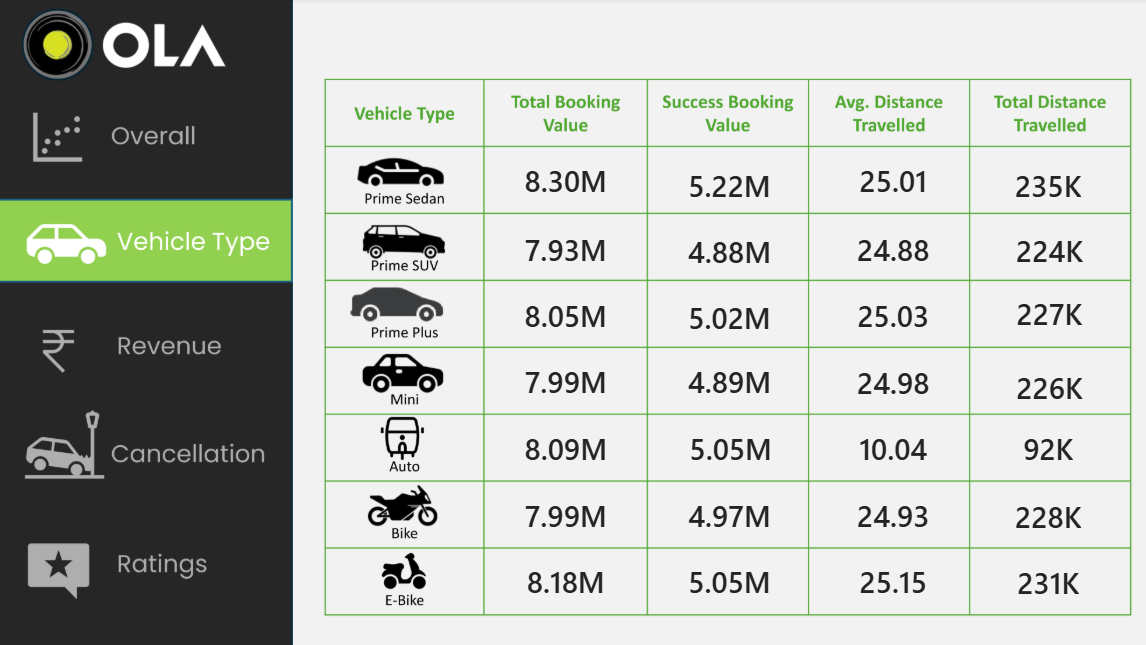

Layout of this report page (visuals, bound fields, positions):
{"tool":"powerbi","page":{"name":"Vehicle Type","canvas":[1280,720],"ordinal":1},"visuals":[{"type":"actionButton","box":[0,222,322.1,90.5],"z":0},{"type":"actionButton","box":[0,334.2,322.1,90.5],"z":1000},{"type":"actionButton","box":[0,448.8,322.1,90.5],"z":2000},{"type":"actionButton","box":[0,585.1,322.1,90.5],"z":3000},{"type":"actionButton","box":[0,113.4,322.1,90.5],"z":4000},{"type":"cardVisual","fields":{"Data":["Sum(July.Booking_Value)"]},"box":[533.8,159.2,179.8,78.2],"z":5000},{"type":"cardVisual","fields":{"Data":["Sum(July.Booking_Value)"]},"box":[533.8,234.6,179.8,78.2],"z":6000},{"type":"cardVisual","fields":{"Data":["Sum(July.Booking_Value)"]},"box":[533.8,312.9,179.8,67.2],"z":7000},{"type":"cardVisual","fields":{"Data":["Sum(July.Booking_Value)"]},"box":[533.8,380.1,179.8,78.2],"z":8000},{"type":"cardVisual","fields":{"Data":["Sum(July.Booking_Value)"]},"box":[533.8,458.3,179.8,70],"z":9000},{"type":"cardVisual","fields":{"Data":["Sum(July.Booking_Value)"]},"box":[533.8,528.3,179.8,75.5],"z":10000},{"type":"cardVisual","fields":{"Data":["Sum(July.Booking_Value)"]},"box":[533.8,603.8,179.8,71.4],"z":11000},{"type":"cardVisual","fields":{"Data":["Sum(July.Booking_Value)"]},"box":[713.6,164.7,179.8,78.2],"z":12000},{"type":"cardVisual","fields":{"Data":["Sum(July.Booking_Value)"]},"box":[713.6,237.4,179.8,78.2],"z":13000},{"type":"cardVisual","fields":{"Data":["Sum(July.Booking_Value)"]},"box":[713.6,315.6,179.8,67.2],"z":14000},{"type":"cardVisual","fields":{"Data":["Sum(July.Booking_Value)"]},"box":[713.6,380.1,179.8,78.2],"z":15000},{"type":"cardVisual","fields":{"Data":["Sum(July.Booking_Value)"]},"box":[714.9,458.3,179.8,70],"z":16000},{"type":"cardVisual","fields":{"Data":["Sum(July.Booking_Value)"]},"box":[713.6,528.3,179.8,75.5],"z":17000},{"type":"cardVisual","fields":{"Data":["Sum(July.Booking_Value)"]},"box":[713.6,603.8,179.8,71.4],"z":18000},{"type":"cardVisual","fields":{"Data":["Avg(July.Ride_Distance)"]},"box":[893.3,159.2,179.8,78.2],"z":19000},{"type":"cardVisual","fields":{"Data":["Avg(July.Ride_Distance)"]},"box":[893.3,234.6,179.8,78.2],"z":20000},{"type":"cardVisual","fields":{"Data":["Avg(July.Ride_Distance)"]},"box":[893.3,312.9,179.8,67.2],"z":21000},{"type":"cardVisual","fields":{"Data":["Avg(July.Ride_Distance)"]},"box":[893.3,381.5,179.8,78.2],"z":22000},{"type":"cardVisual","fields":{"Data":["Avg(July.Ride_Distance)"]},"box":[893.3,458.3,179.8,70],"z":23000},{"type":"cardVisual","fields":{"Data":["Avg(July.Ride_Distance)"]},"box":[893.3,528.3,179.8,75.5],"z":24000},{"type":"cardVisual","fields":{"Data":["Avg(July.Ride_Distance)"]},"box":[893.3,603.8,179.8,71.4],"z":25000},{"type":"cardVisual","fields":{"Data":["Sum(July.Ride_Distance)"]},"box":[1063.5,164.7,179.8,78.2],"z":26000},{"type":"cardVisual","fields":{"Data":["Sum(July.Ride_Distance)"]},"box":[1064.8,236,179.8,78.2],"z":27000},{"type":"cardVisual","fields":{"Data":["Sum(July.Ride_Distance)"]},"box":[1064.8,311.5,179.8,67.2],"z":28000},{"type":"cardVisual","fields":{"Data":["Sum(July.Ride_Distance)"]},"box":[1064.8,387,179.8,78.2],"z":29000},{"type":"cardVisual","fields":{"Data":["Sum(July.Ride_Distance)"]},"box":[1063.5,458.3,179.8,70],"z":30000},{"type":"cardVisual","fields":{"Data":["Sum(July.Ride_Distance)"]},"box":[1063.5,529.7,179.8,75.5],"z":31000},{"type":"cardVisual","fields":{"Data":["Sum(July.Ride_Distance)"]},"box":[1063.5,605.1,179.8,71.4],"z":32000}]}

Visuals, with their boxes on the page's 1280x720 design canvas (x1, y1, x2, y2). These are canvas units, not pixel positions in the 1146x645 screenshot, which may show the page scaled, cropped or inside an application window:
actionButton: 0 222 322 312
actionButton: 0 334 322 425
actionButton: 0 449 322 539
actionButton: 0 585 322 676
actionButton: 0 113 322 204
cardVisual - Sum(July.Booking_Value): 534 159 714 237
cardVisual - Sum(July.Booking_Value): 534 235 714 313
cardVisual - Sum(July.Booking_Value): 534 313 714 380
cardVisual - Sum(July.Booking_Value): 534 380 714 458
cardVisual - Sum(July.Booking_Value): 534 458 714 528
cardVisual - Sum(July.Booking_Value): 534 528 714 604
cardVisual - Sum(July.Booking_Value): 534 604 714 675
cardVisual - Sum(July.Booking_Value): 714 165 893 243
cardVisual - Sum(July.Booking_Value): 714 237 893 316
cardVisual - Sum(July.Booking_Value): 714 316 893 383
cardVisual - Sum(July.Booking_Value): 714 380 893 458
cardVisual - Sum(July.Booking_Value): 715 458 895 528
cardVisual - Sum(July.Booking_Value): 714 528 893 604
cardVisual - Sum(July.Booking_Value): 714 604 893 675
cardVisual - Avg(July.Ride_Distance): 893 159 1073 237
cardVisual - Avg(July.Ride_Distance): 893 235 1073 313
cardVisual - Avg(July.Ride_Distance): 893 313 1073 380
cardVisual - Avg(July.Ride_Distance): 893 382 1073 460
cardVisual - Avg(July.Ride_Distance): 893 458 1073 528
cardVisual - Avg(July.Ride_Distance): 893 528 1073 604
cardVisual - Avg(July.Ride_Distance): 893 604 1073 675
cardVisual - Sum(July.Ride_Distance): 1064 165 1243 243
cardVisual - Sum(July.Ride_Distance): 1065 236 1245 314
cardVisual - Sum(July.Ride_Distance): 1065 312 1245 379
cardVisual - Sum(July.Ride_Distance): 1065 387 1245 465
cardVisual - Sum(July.Ride_Distance): 1064 458 1243 528
cardVisual - Sum(July.Ride_Distance): 1064 530 1243 605
cardVisual - Sum(July.Ride_Distance): 1064 605 1243 676
